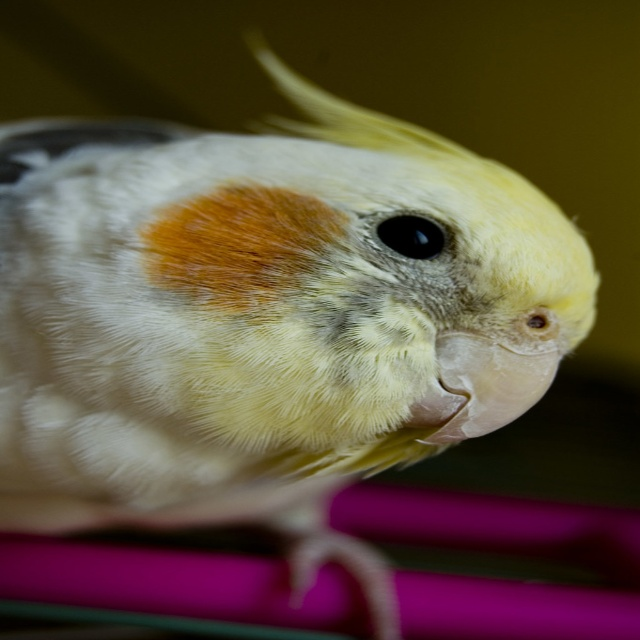Parrot: (0, 25, 602, 640)
